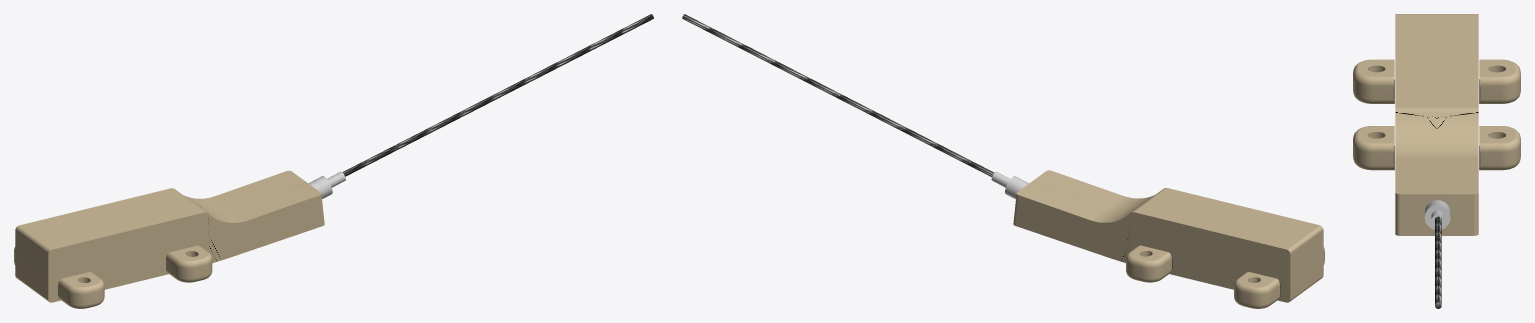
The model's file is tag12.obj.
3 renders of one model, left to right at view 1: azimuth 30°, elevation 25°; view 2: azimuth 150°, elevation 25°; view 3: azimuth 270°, elevation 25°, orthographic. The views are drawn at different scales.
Parts seen in each view (by area): view 1: polySurface1, pCylinder22, pCylinder21; view 2: polySurface1, pCylinder22, pCylinder21; view 3: polySurface1, pCylinder22, pCylinder21.
Boxes of the visible parts, <box> form: polySurface1: <box>14,170,324,308</box>; pCylinder22: <box>342,14,653,176</box>; pCylinder21: <box>308,171,345,198</box>; polySurface1: <box>1013,170,1324,308</box>; pCylinder22: <box>682,14,994,177</box>; pCylinder21: <box>991,171,1028,199</box>; polySurface1: <box>1353,14,1520,235</box>; pCylinder22: <box>1435,216,1441,308</box>; pCylinder21: <box>1424,200,1450,229</box>.
Bounding box in the file's own units: 137 × 26.37 × 25.39.
Materials: 12 (10 with a texture image).
